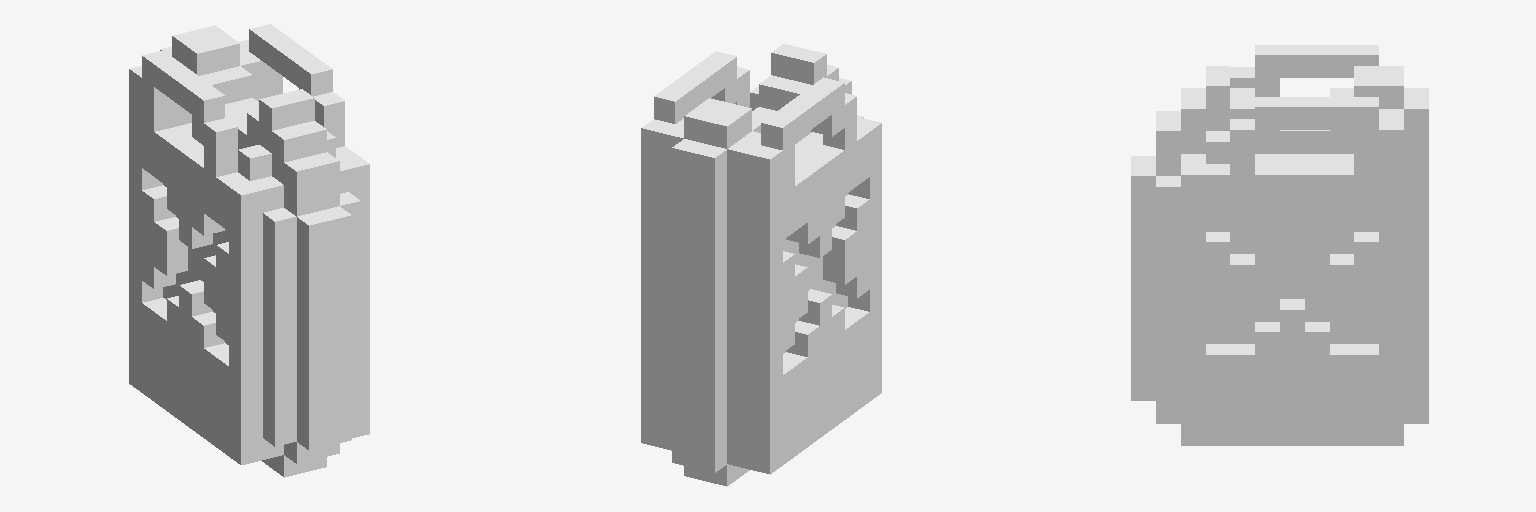
Rendered from Fuel.obj.
3 views of the same model, side by side, from view 1: azimuth 30°, elevation 25°; view 2: azimuth 150°, elevation 25°; view 3: azimuth 270°, elevation 25° (orthographic).
Visible parts, largest first — view 1: object 1; view 2: object 1; view 3: object 1.
Part boxes in pixels (bbox=[...]): object 1: bbox=[129, 24, 369, 477]; object 1: bbox=[641, 44, 881, 486]; object 1: bbox=[1131, 45, 1428, 445].
Size of the model in its own units: 0.6 by 1.6 by 1.2.